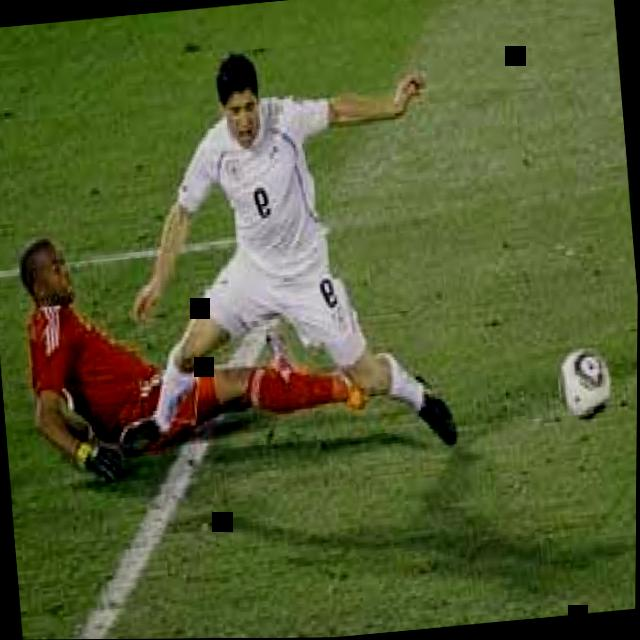Fall-Detected: (0, 197, 378, 466)
